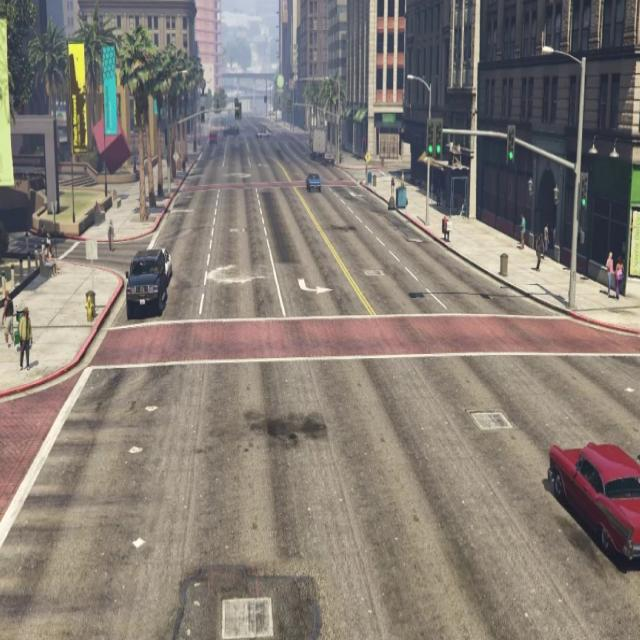Green-Signal: (425, 113, 448, 167), (504, 114, 520, 178), (576, 164, 592, 215)
